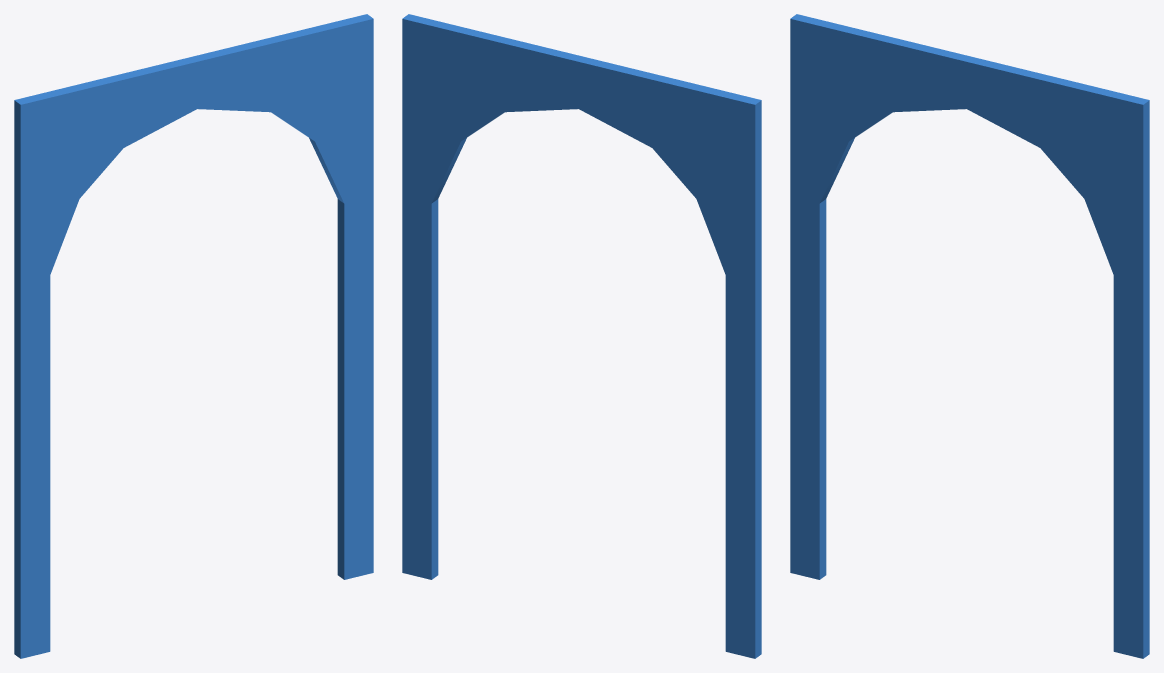
Rendered from Collision_Wall_Arch.fbx.
3 renders of one model, left to right at view 1: azimuth 30°, elevation 25°; view 2: azimuth 150°, elevation 25°; view 3: azimuth 330°, elevation 25°, orthographic.
Visible parts, largest first — view 1: UCX_Wall_Arch_01; view 2: UCX_Wall_Arch_01; view 3: UCX_Wall_Arch_01.
Part boxes in pixels (x1,y1,x2,y2): UCX_Wall_Arch_01: (14,14,373,658); UCX_Wall_Arch_01: (402,14,761,658); UCX_Wall_Arch_01: (790,14,1149,658).
Size of the model in its own units: 200 by 300 by 6.4.
